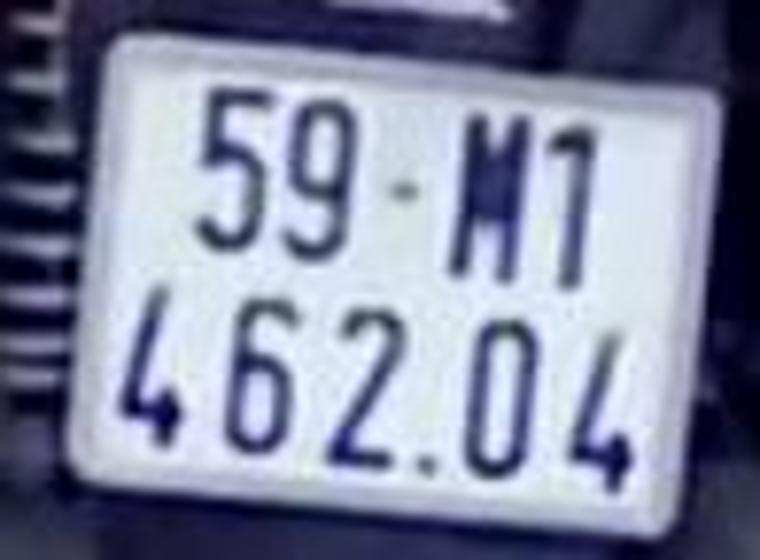-: (383, 174, 428, 209)
.: (414, 448, 439, 483)
0: (463, 314, 545, 487)
1: (544, 118, 606, 298)
2: (322, 302, 410, 481)
4: (557, 319, 646, 500), (116, 288, 192, 459)
5: (191, 79, 273, 262)
6: (223, 289, 304, 458)
9: (277, 86, 366, 271)
M: (444, 104, 536, 289)
